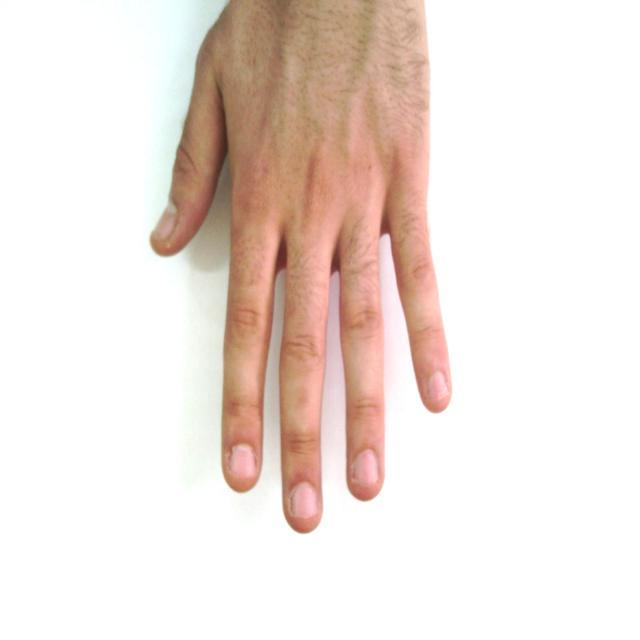Fingernail: (152, 203, 177, 241), (293, 483, 317, 519), (355, 451, 378, 487), (231, 446, 256, 478), (429, 373, 447, 400)
